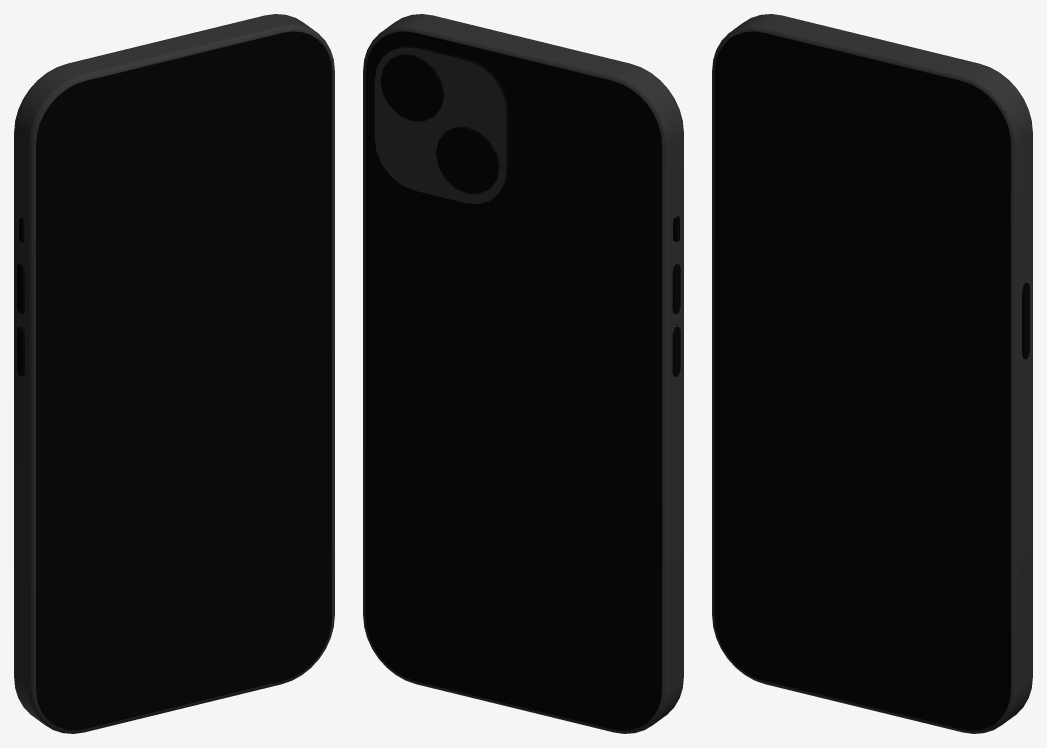
Rendered from phone.glb.
3 views of the same model, side by side, from view 1: azimuth 30°, elevation 25°; view 2: azimuth 150°, elevation 25°; view 3: azimuth 330°, elevation 25° (orthographic).
Visible parts, largest first — view 1: Cube_0; view 2: Cube_0; view 3: Cube_0.
Part boxes in pixels (x1,y1,x2,y2): Cube_0: [14, 14, 334, 733]; Cube_0: [363, 14, 683, 733]; Cube_0: [712, 14, 1032, 733].
Size of the model in its own units: 5.7 by 11.62 by 0.74.
Materials: 1 (1 with a texture image).
